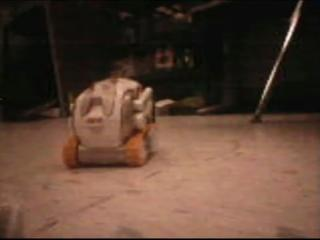cozmo: (61, 68, 158, 168)
